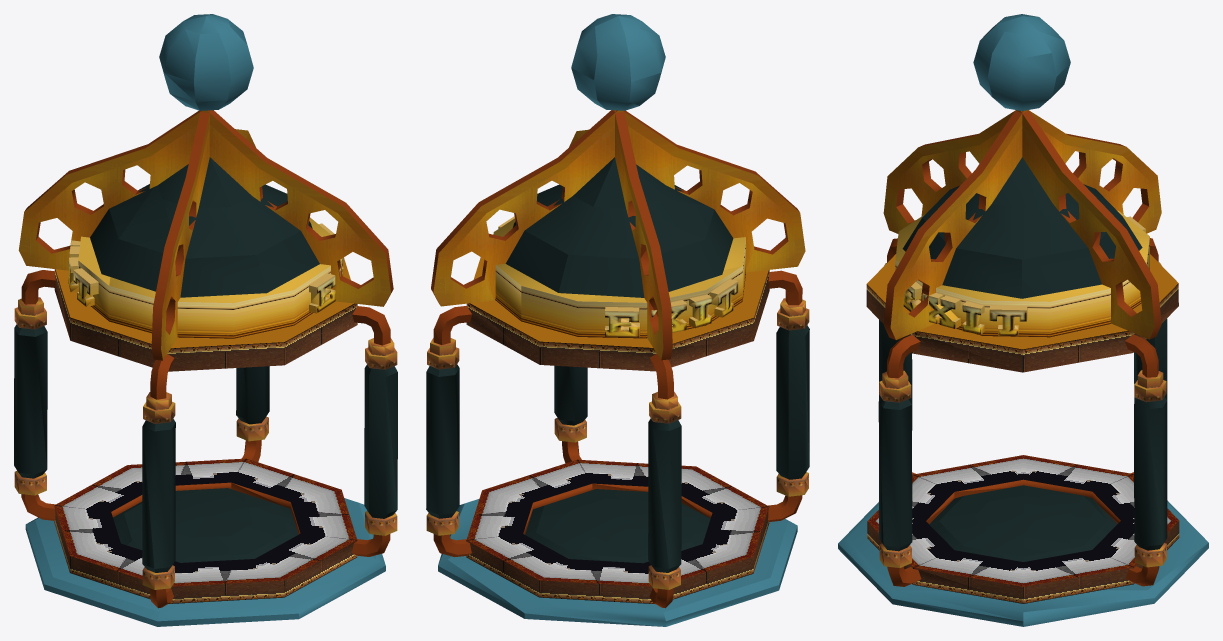
File: chao_lobby_exit.glb
3 renders of one model, left to right at view 1: azimuth 30°, elevation 25°; view 2: azimuth 150°, elevation 25°; view 3: azimuth 270°, elevation 25°, orthographic.
Parts seen in each view (by area): view 1: Object_10, Object_3, Object_4, Object_7, Object_5, Object_2, Object_9, Object_8; view 2: Object_10, Object_3, Object_4, Object_7, Object_5, Object_2, Object_9, Object_8; view 3: Object_10, Object_3, Object_4, Object_7, Object_2, Object_5, Object_9, Object_8.
Part boxes in pixels (left/top/right/bottom): Object_10: left=14, top=157, right=397, bottom=572; Object_3: left=18, top=110, right=390, bottom=360; Object_4: left=25, top=14, right=385, bottom=626; Object_7: left=54, top=458, right=356, bottom=586; Object_5: left=54, top=269, right=357, bottom=603; Object_2: left=21, top=110, right=393, bottom=608; Object_9: left=68, top=217, right=343, bottom=338; Object_8: left=14, top=297, right=397, bottom=589; Object_10: left=426, top=157, right=809, bottom=572; Object_3: left=433, top=110, right=805, bottom=359; Object_4: left=438, top=14, right=797, bottom=626; Object_7: left=466, top=459, right=768, bottom=586; Object_5: left=466, top=270, right=769, bottom=603; Object_2: left=431, top=110, right=802, bottom=608; Object_9: left=493, top=216, right=745, bottom=338; Object_8: left=426, top=298, right=809, bottom=589; Object_10: left=878, top=157, right=1167, bottom=561; Object_3: left=867, top=110, right=1178, bottom=349; Object_4: left=838, top=14, right=1208, bottom=626; Object_7: left=867, top=455, right=1179, bottom=586; Object_2: left=883, top=110, right=1161, bottom=586; Object_5: left=866, top=283, right=1179, bottom=603; Object_9: left=895, top=210, right=1149, bottom=337; Object_8: left=879, top=262, right=1166, bottom=567.
Bounding box in the file's own units: 3.8 × 6.03 × 3.8.
10 materials, 10 textured.
